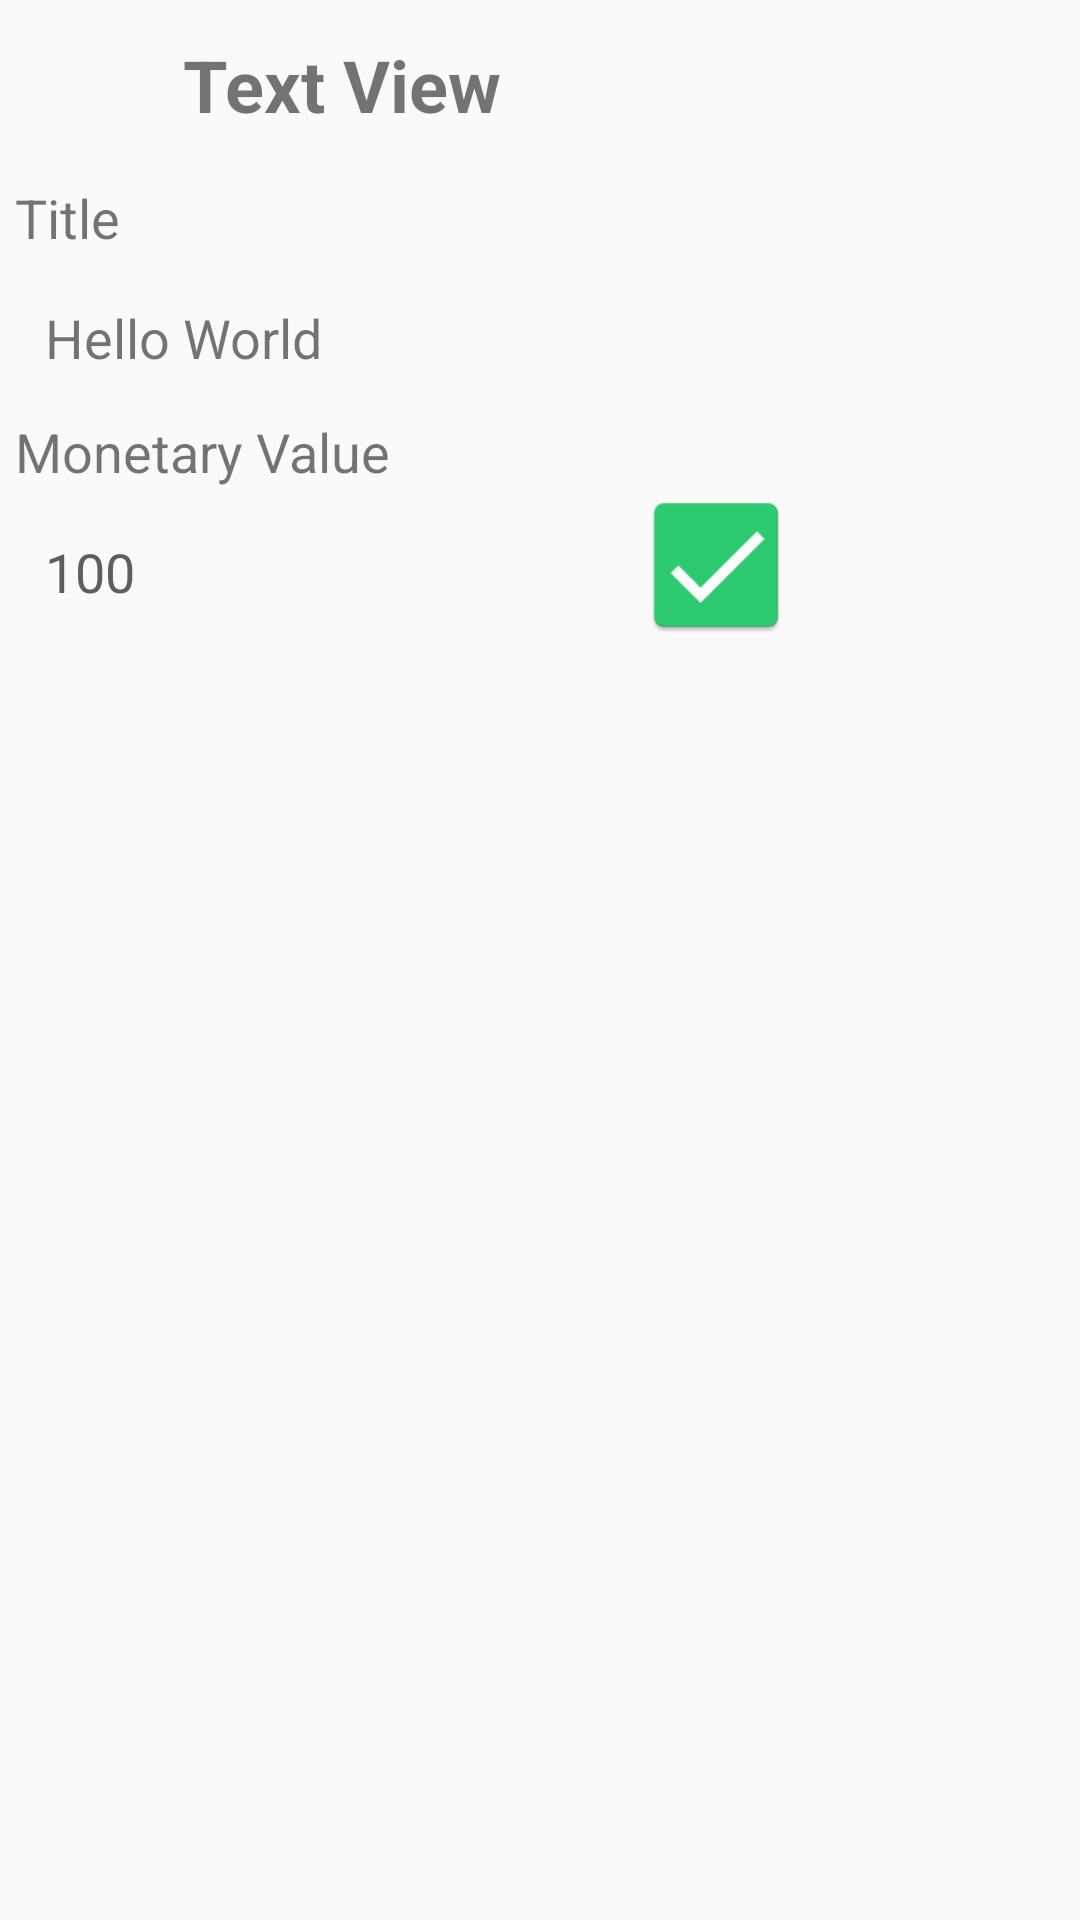

Where icons sit on this 1080 x 1920 app screen, as (x1, y1, x2, y2):
done: (653, 503, 779, 631)
